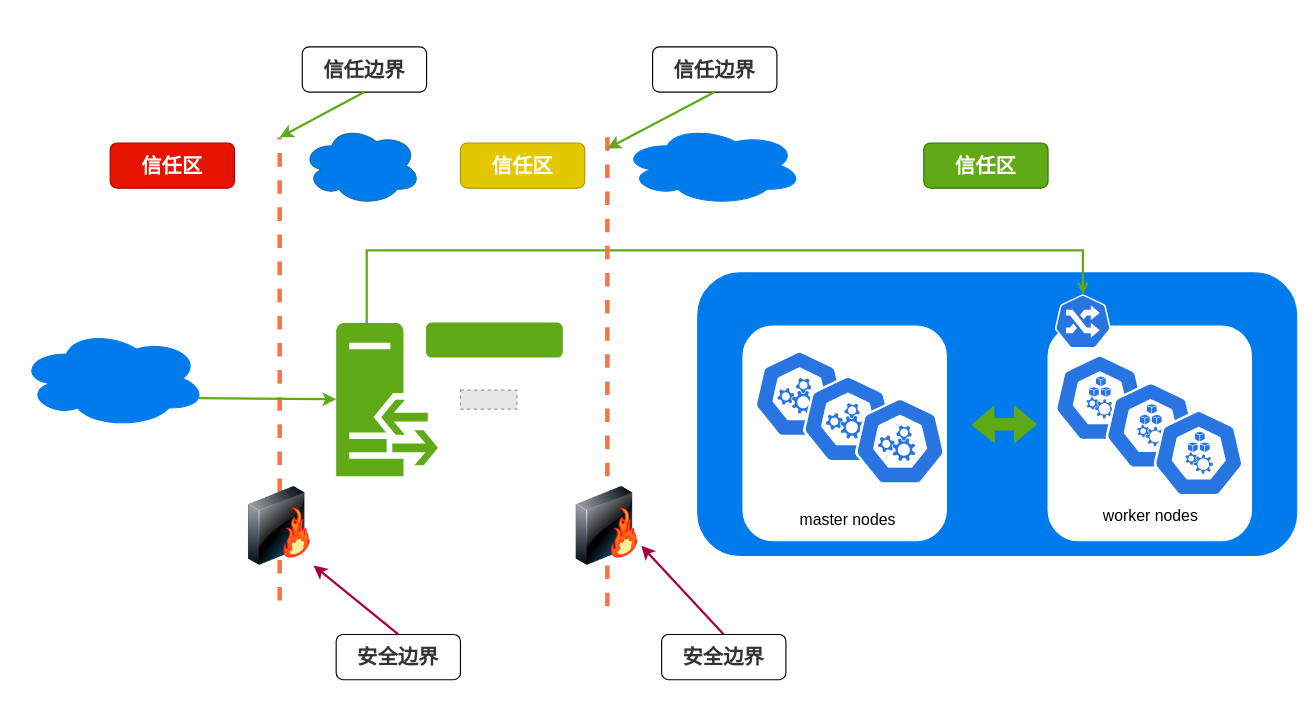
Some shapes in this 1316 by 709 pixel diagram are drawn without their labels. Grey dashed boxes stand in for pictures. Here are the shapes that lost their labels. From the top down, the centre of each, then its label:
the point at 361,165: DMZ
the point at 712,165: Enterprise LAN
the point at 493,339: Reverse Proxy
the point at 112,378: Internet
